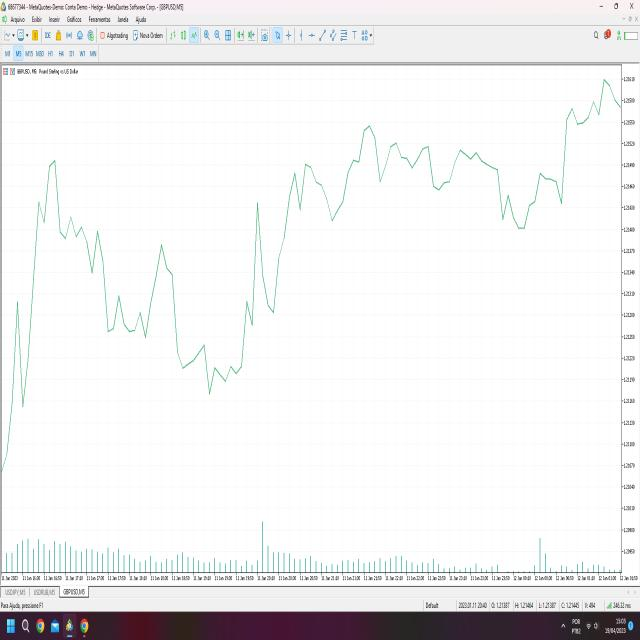oco_inv: (166, 308, 251, 406)
